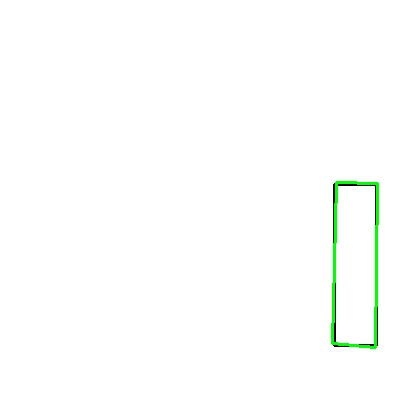line_segment: (332, 182, 378, 348)
